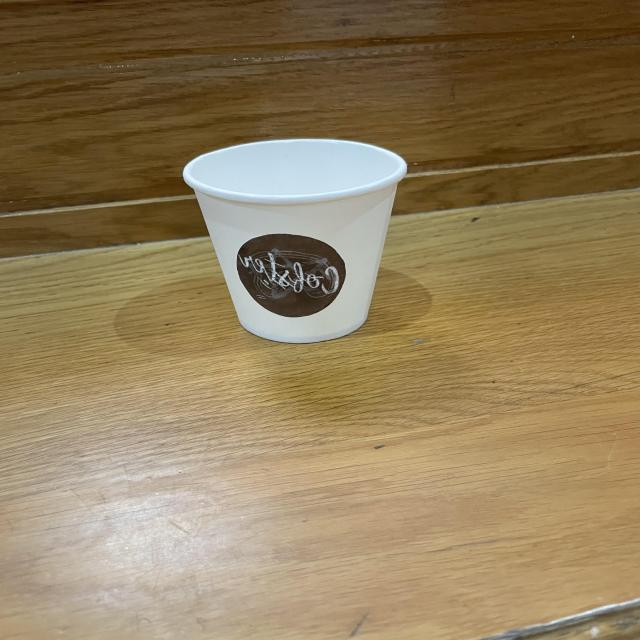small: (168, 122, 420, 364)
